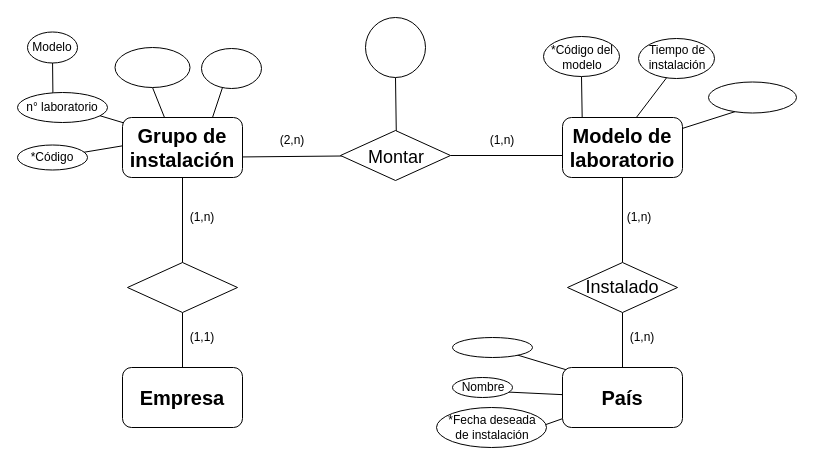
The diagram is 814 pixels wide and 465 high, and some of its shapes have lost their labels. Each missing label, with the centre of its shape:
"*Código país" goes at pixel 492 347.
"Asignar" goes at pixel 182 287.
"Cant. de personas" goes at pixel 152 67.
"Características" goes at pixel 752 97.
"Fecha de montaje" goes at pixel 395 47.
"Tel. contacto" goes at pixel 231 68.
